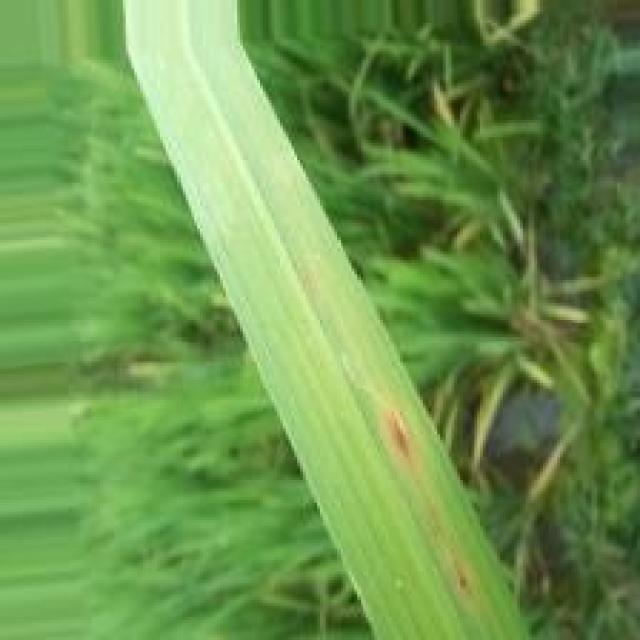Brown_Spot: (378, 398, 422, 469), (455, 559, 480, 596)
